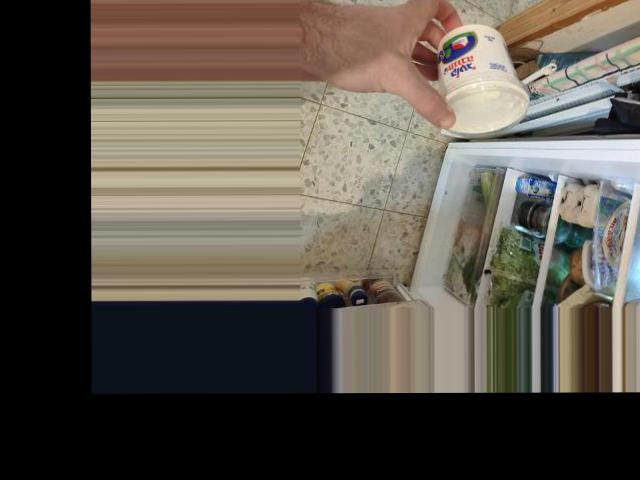cotage: (422, 20, 532, 139)
